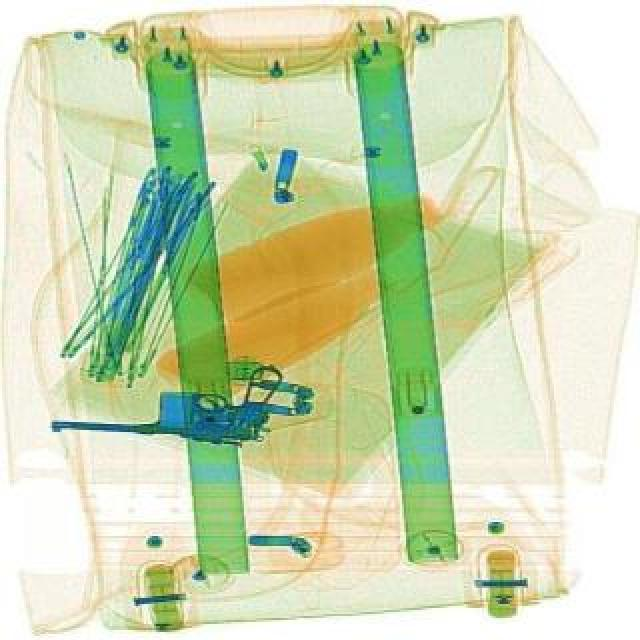gun: (54, 352, 286, 448)
